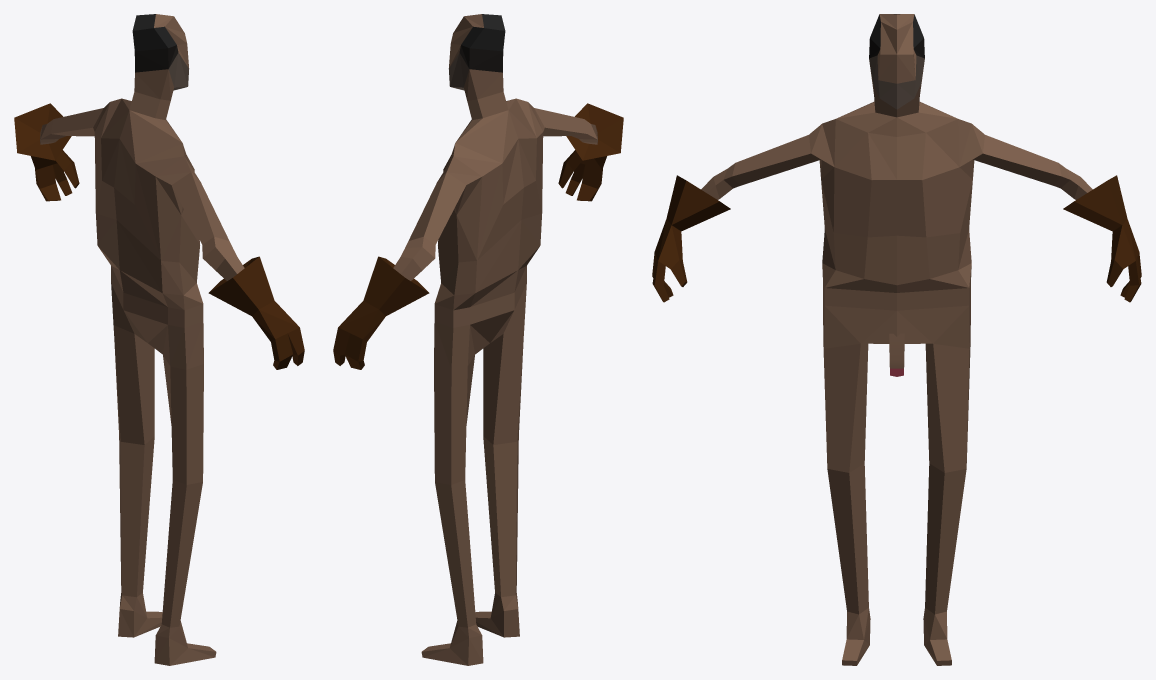
Rendered from Knight_naked.fbx.
The picture shows the model from 3 angles, left to right: view 1: azimuth 30°, elevation 25°; view 2: azimuth 150°, elevation 25°; view 3: azimuth 270°, elevation 25°; orthographic projection.
Parts seen in each view (by area): view 1: Knight_torso_naked, Knight_legs_naked, Knight_head_naked; view 2: Knight_torso_naked, Knight_legs_naked, Knight_head_naked; view 3: Knight_torso_naked, Knight_legs_naked, Knight_head_naked.
Part boxes in pixels (left/top/right/bottom): Knight_torso_naked: left=14, top=91, right=304, bottom=369; Knight_legs_naked: left=111, top=266, right=216, bottom=665; Knight_head_naked: left=132, top=14, right=189, bottom=100; Knight_torso_naked: left=333, top=91, right=623, bottom=369; Knight_legs_naked: left=421, top=266, right=526, bottom=665; Knight_head_naked: left=448, top=14, right=505, bottom=100; Knight_torso_naked: left=652, top=95, right=1141, bottom=302; Knight_legs_naked: left=823, top=281, right=970, bottom=665; Knight_head_naked: left=869, top=14, right=924, bottom=109.
Size of the model in its own units: 0.3248 by 2.55 by 1.78.
